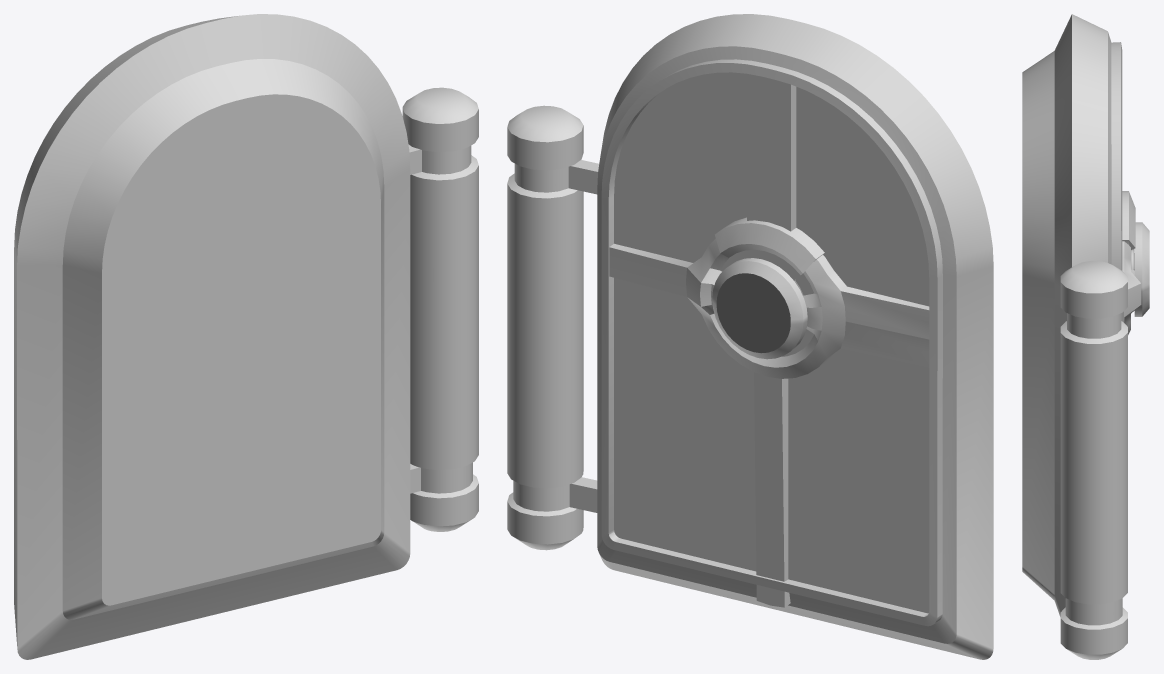
File: Door.fbx
3 views of the same model, side by side, from view 1: azimuth 30°, elevation 25°; view 2: azimuth 150°, elevation 25°; view 3: azimuth 270°, elevation 25° (orthographic). The views are drawn at different scales.
Parts seen in each view (by area): view 1: Door; view 2: Door; view 3: Door.
Part boxes in pixels (x1,y1,x2,y2): Door: [14, 14, 478, 659]; Door: [507, 14, 993, 659]; Door: [1022, 14, 1149, 659].
Size of the model in its own units: 133 by 161 by 34.97.
